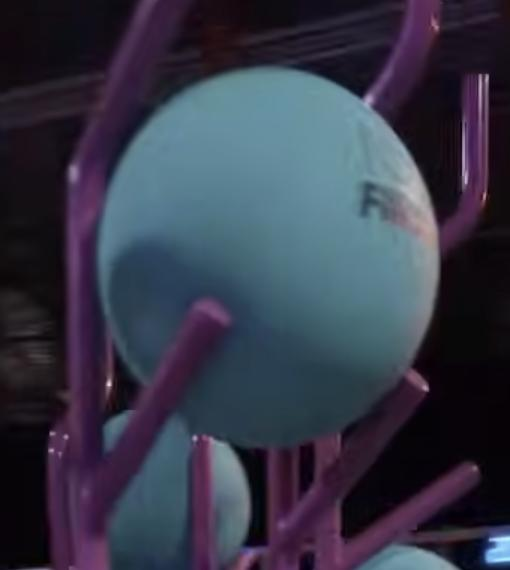algae: (97, 67, 441, 449), (102, 408, 251, 570), (335, 545, 458, 568)
